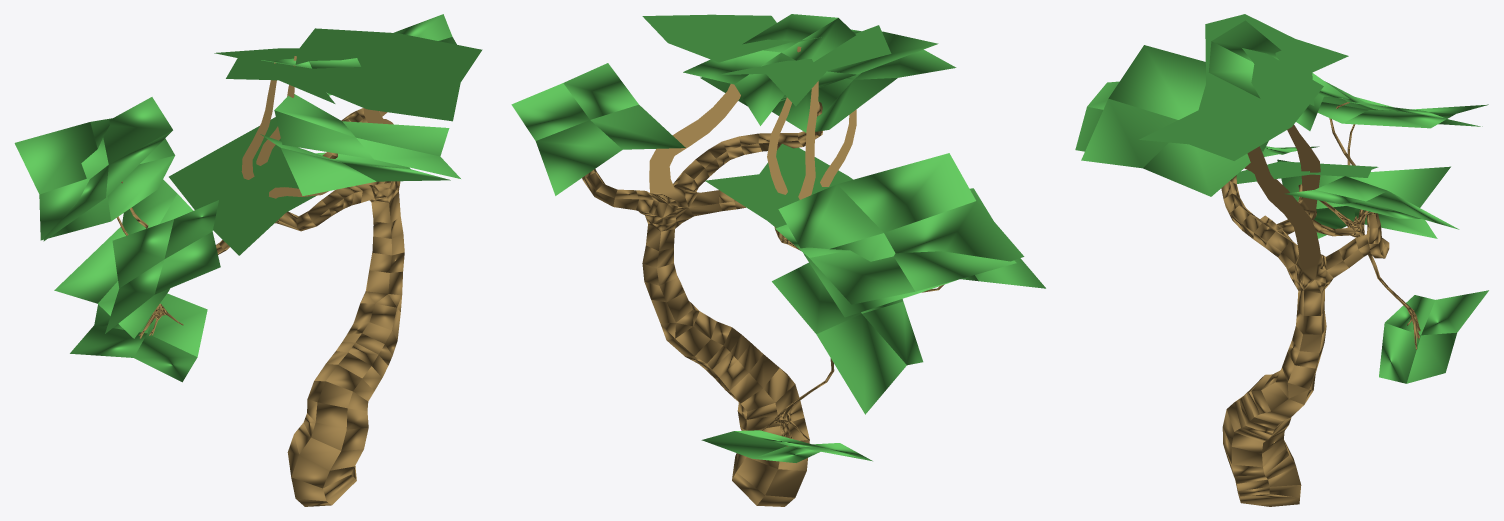
Rendered from tree_5.fbx.
The picture shows the model from 3 angles, left to right: view 1: azimuth 30°, elevation 25°; view 2: azimuth 150°, elevation 25°; view 3: azimuth 270°, elevation 25°; orthographic projection. The views are drawn at different scales.
Parts seen in each view (by area): view 1: tree5mesh; view 2: tree5mesh; view 3: tree5mesh.
Boxes of the visible parts, x1,y1,x2,y2 form: tree5mesh: (14, 14, 482, 506); tree5mesh: (511, 14, 1045, 506); tree5mesh: (1075, 14, 1488, 506).
Size of the model in its own units: 128 by 127 by 104.
